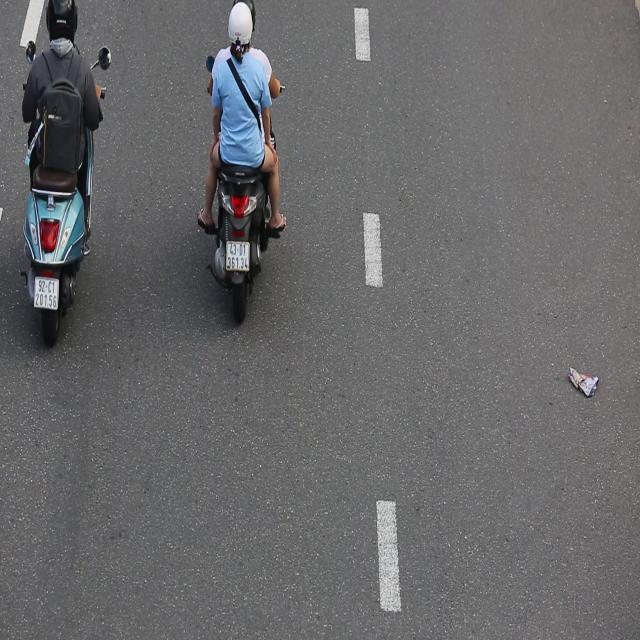motorbike: (11, 0, 113, 348), (198, 1, 296, 332)
